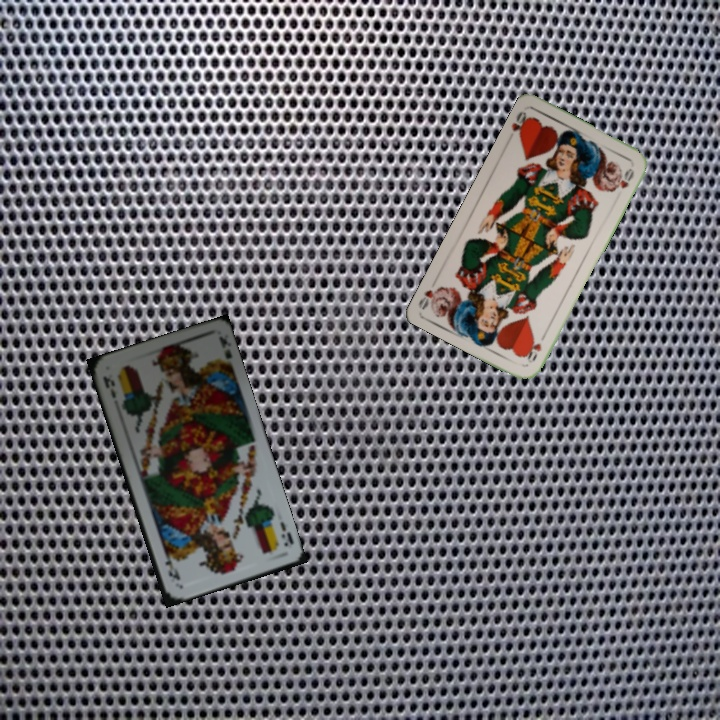EK: (276, 517, 296, 549), (99, 372, 118, 401)
HO: (522, 330, 548, 364), (507, 107, 533, 140)
